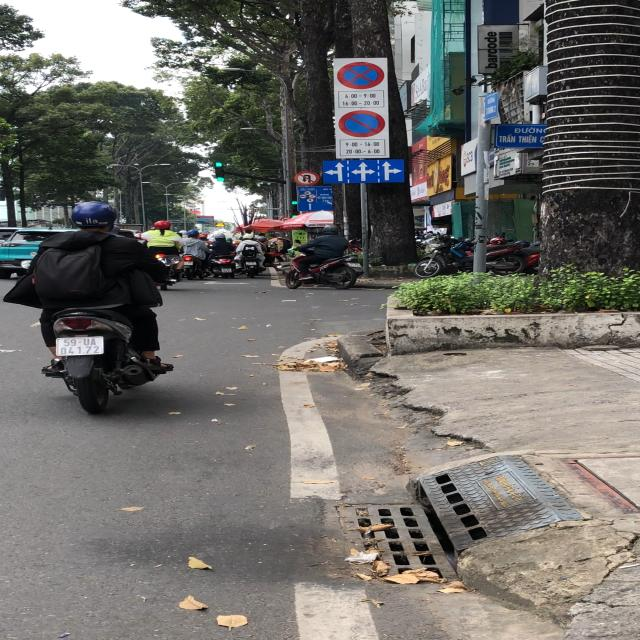Bien bao cam do xe: (334, 108, 389, 140)
Bien bao cam dung xe va do xe: (334, 59, 388, 90)
Bien bao cam quay dau xe: (294, 170, 322, 188)
